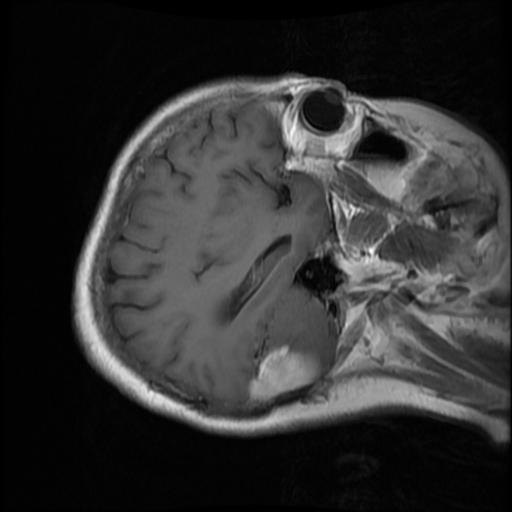meningioma: (243, 345, 323, 409)
